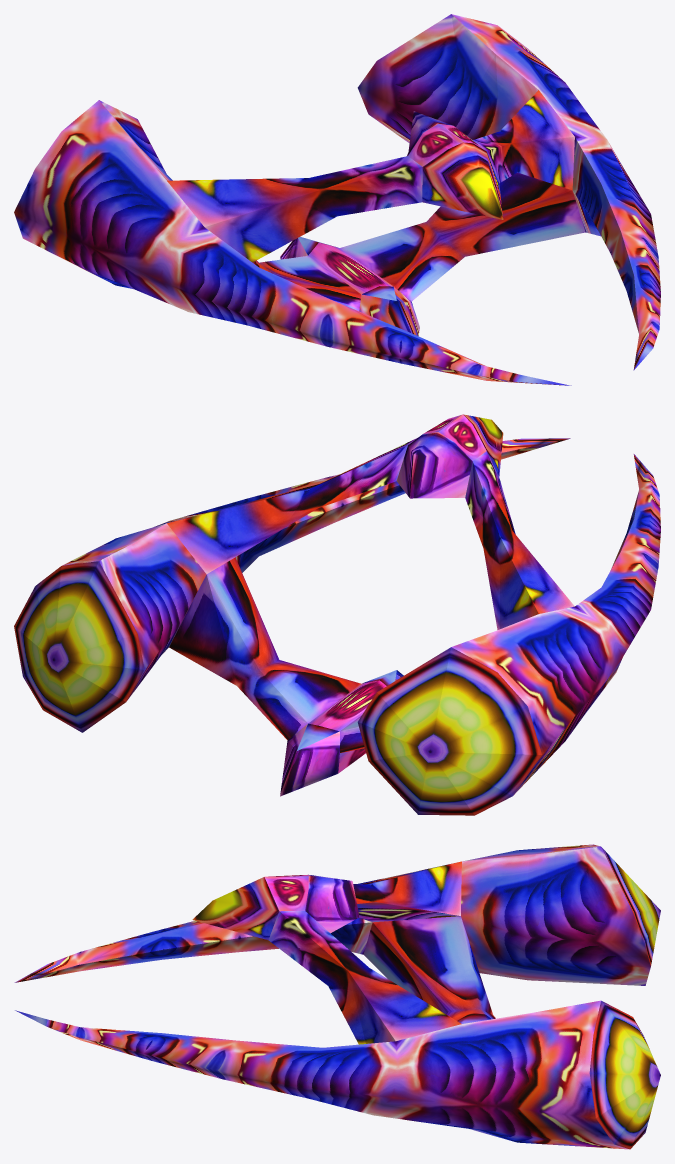
The model's file is boss-05.fbx.
3 renders of one model, top to bottom at view 1: azimuth 30°, elevation 25°; view 2: azimuth 150°, elevation 25°; view 3: azimuth 270°, elevation 25°, orthographic. The views are drawn at different scales.
Parts seen in each view (by area): view 1: boss-05; view 2: boss-05; view 3: boss-05.
Boxes of the visible parts, x1,y1,x2,y2 form: boss-05: [14, 14, 660, 385]; boss-05: [14, 414, 660, 815]; boss-05: [14, 844, 660, 1149].
Bounding box in the file's own units: 146 × 66.98 × 173.
